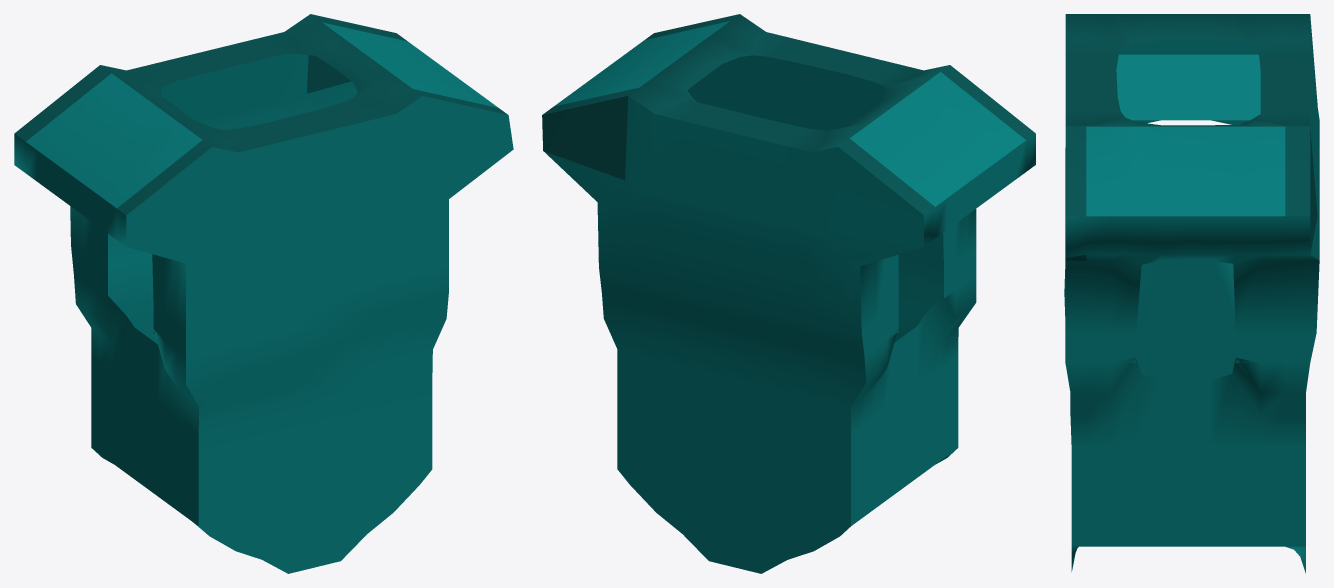
The model's file is Armor 1.fbx.
3 views of the same model, side by side, from view 1: azimuth 30°, elevation 25°; view 2: azimuth 150°, elevation 25°; view 3: azimuth 270°, elevation 25° (orthographic). The views are drawn at different scales.
Parts seen in each view (by area): view 1: armor; view 2: armor; view 3: armor.
Part boxes in pixels (x1,y1,x2,y2): armor: (14, 14, 513, 573); armor: (542, 14, 1035, 573); armor: (1064, 14, 1319, 573).
Bounding box in the file's own units: 29.46 × 32.59 × 15.39.
